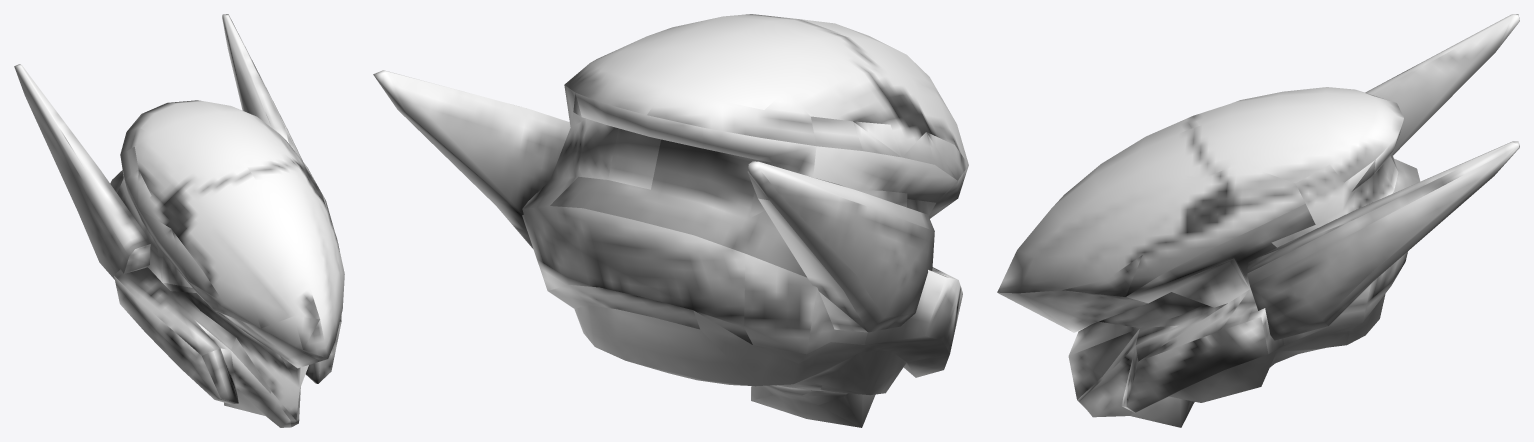
3 views of the same model, side by side, from view 1: azimuth 30°, elevation 25°; view 2: azimuth 150°, elevation 25°; view 3: azimuth 270°, elevation 25° (orthographic). The views are drawn at different scales.
Visible parts, largest first — view 1: h_lt; view 2: h_lt; view 3: h_lt.
Part boxes in pixels (<box>): h_lt: <box>14,14,344,427</box>; h_lt: <box>373,14,968,427</box>; h_lt: <box>997,14,1519,427</box>.
Size of the model in its own units: 1.13 by 1.3 by 1.85.
Materials: 3 (3 with a texture image).
